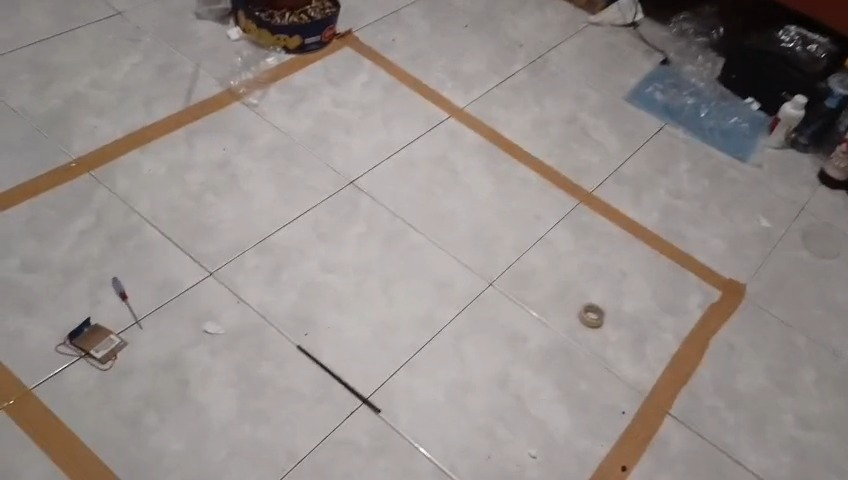floor marking: (0, 31, 745, 479), (0, 362, 113, 478)
